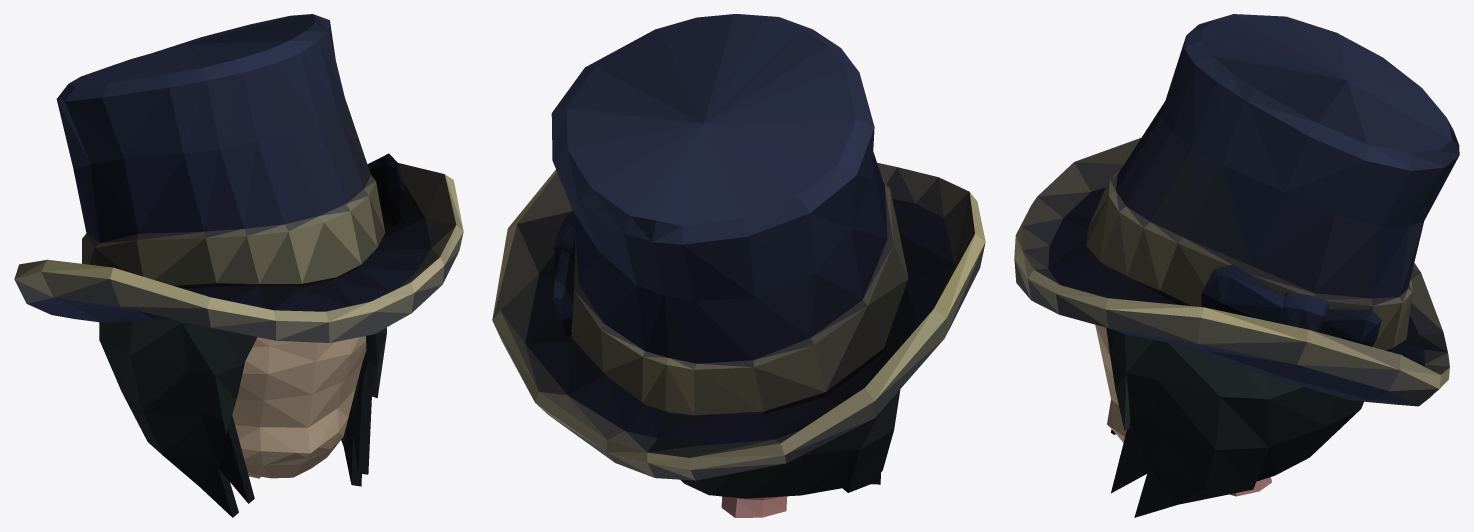
The model's file is helm_lightskin_bob_black_tophat.fbx.
3 views of the same model, side by side, from view 1: azimuth 30°, elevation 25°; view 2: azimuth 150°, elevation 25°; view 3: azimuth 270°, elevation 25° (orthographic). The views are drawn at different scales.
Parts seen in each view (by area): view 1: helm_lightskin_bob_black_tophat; view 2: helm_lightskin_bob_black_tophat; view 3: helm_lightskin_bob_black_tophat.
Part boxes in pixels (left/top/right/bottom): helm_lightskin_bob_black_tophat: left=14, top=14, right=463, bottom=517; helm_lightskin_bob_black_tophat: left=492, top=14, right=985, bottom=517; helm_lightskin_bob_black_tophat: left=1014, top=14, right=1459, bottom=517.
Size of the model in its own units: 1.68 by 1.83 by 1.64.
